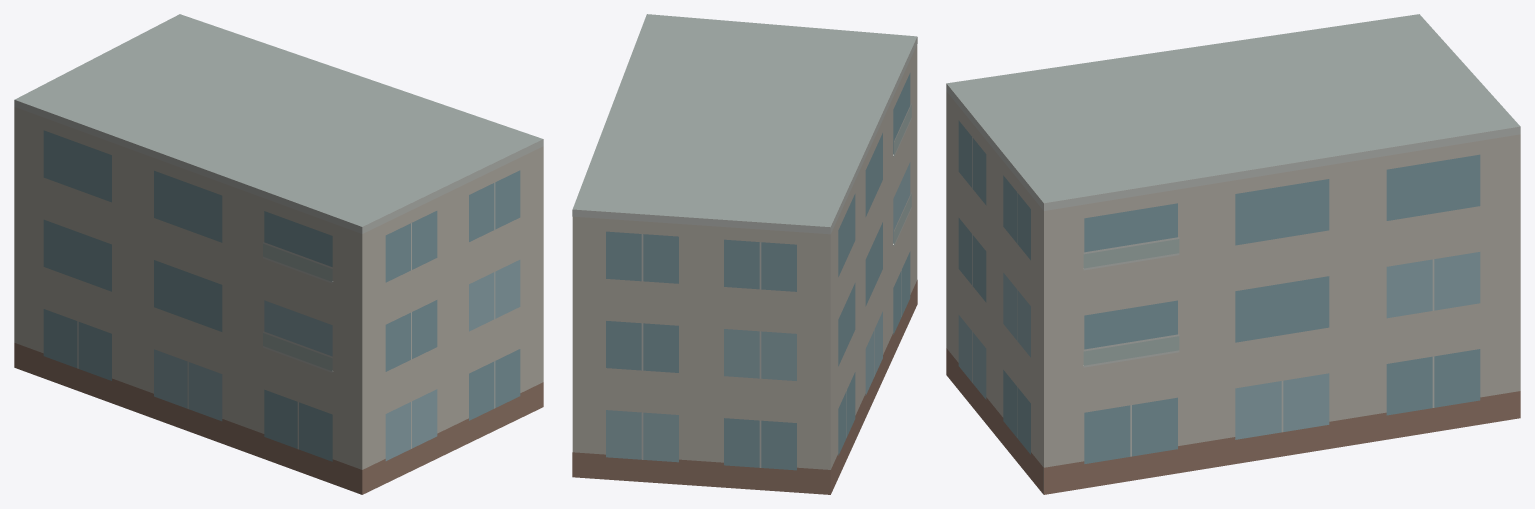
The model's file is survey-upis-32821098.glb.
The picture shows the model from 3 angles, left to right: view 1: azimuth 30°, elevation 25°; view 2: azimuth 150°, elevation 25°; view 3: azimuth 270°, elevation 25°; orthographic projection. The views are drawn at different scales.
Visible parts, largest first — view 1: survey-upis-32821098.tmp; view 2: survey-upis-32821098.tmp; view 3: survey-upis-32821098.tmp.
Part boxes in pixels (<box>): survey-upis-32821098.tmp: <box>14,14,543,494</box>; survey-upis-32821098.tmp: <box>572,14,917,494</box>; survey-upis-32821098.tmp: <box>946,14,1520,494</box>.
Bounding box in the file's own units: 12.75 × 9.15 × 16.34.
